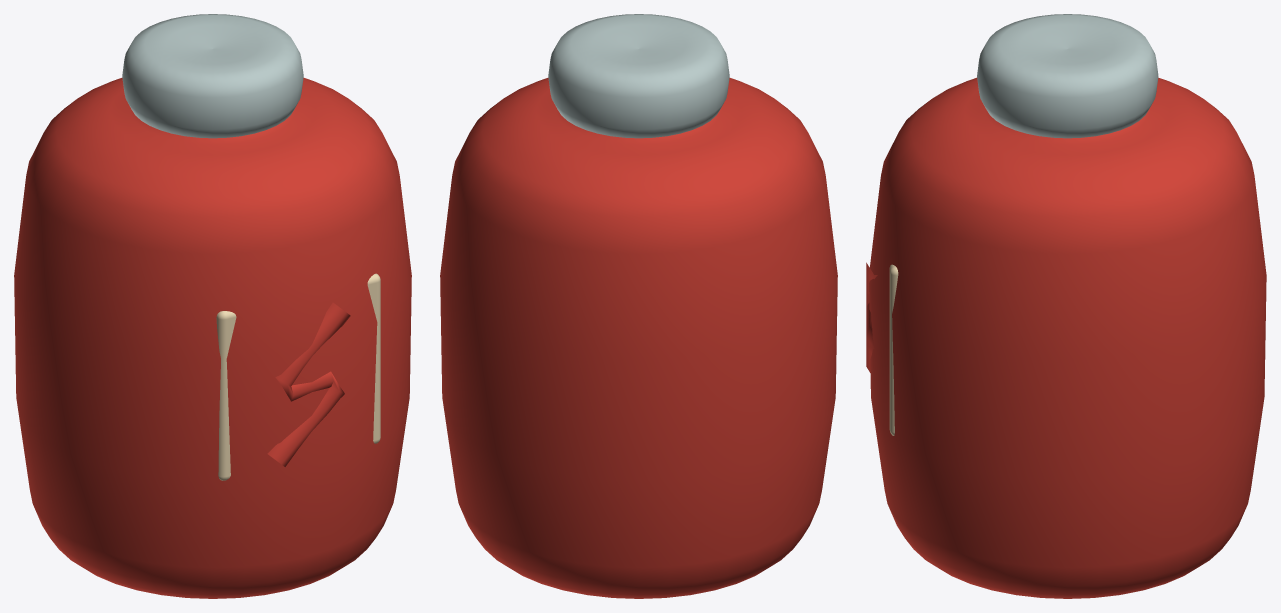
The model's file is bonus-boost-light.glb.
3 views of the same model, side by side, from view 1: azimuth 30°, elevation 25°; view 2: azimuth 150°, elevation 25°; view 3: azimuth 270°, elevation 25° (orthographic).
Parts seen in each view (by area): view 1: red, steel, cream; view 2: red, steel; view 3: red, steel, cream.
Part boxes in pixels (left/top/right/bottom): red: left=14, top=78, right=411, bottom=598; steel: left=122, top=14, right=303, bottom=138; cream: left=216, top=273, right=380, bottom=480; red: left=440, top=78, right=837, bottom=598; steel: left=548, top=14, right=729, bottom=138; red: left=866, top=77, right=1266, bottom=598; steel: left=977, top=14, right=1158, bottom=138; cream: left=889, top=264, right=898, bottom=435.
Bounding box in the file's own units: 0.5293 × 0.7352 × 0.5327.
